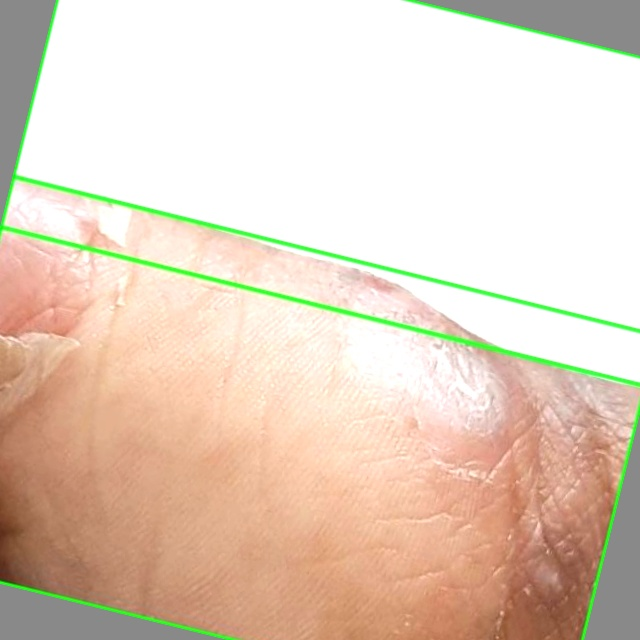Scabies: (0, 176, 639, 639), (0, 0, 639, 385)
